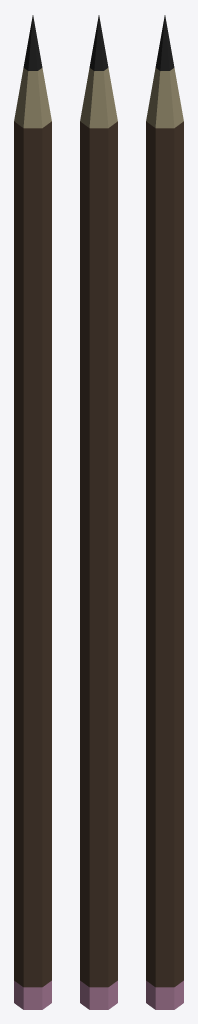
The model's file is pencil.glb.
3 views of the same model, side by side, from view 1: azimuth 30°, elevation 25°; view 2: azimuth 210°, elevation 25°; view 3: azimuth 270°, elevation 25° (orthographic).
Parts seen in each view (by area): view 1: Pencil; view 2: Pencil; view 3: Pencil.
Part boxes in pixels (x1,y1,x2,y2): Pencil: (14,15,51,1009); Pencil: (80,15,117,1009); Pencil: (146,15,183,1009).
Size of the model in its own units: 0.00866 by 0.2878 by 0.01.
